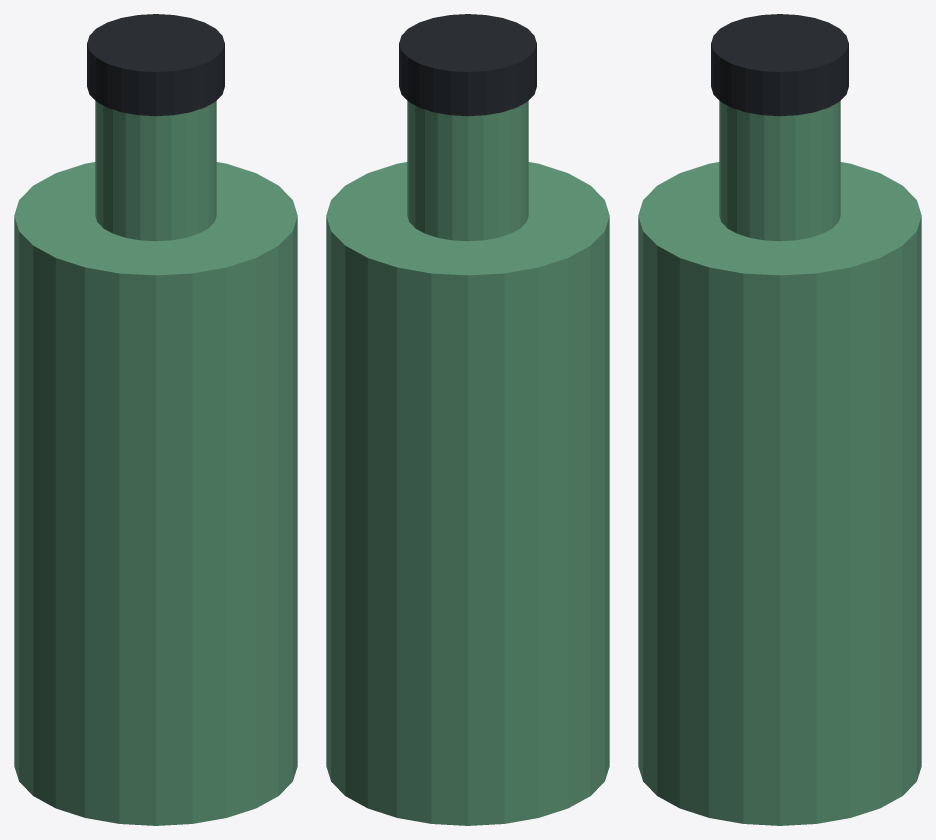
File: bottle.glb
3 renders of one model, left to right at view 1: azimuth 30°, elevation 25°; view 2: azimuth 150°, elevation 25°; view 3: azimuth 270°, elevation 25°, orthographic.
Visible parts, largest first — view 1: bottle; view 2: bottle; view 3: bottle.
Boxes of the visible parts, x1,y1,x2,y2 form: bottle: (14, 14, 297, 825); bottle: (326, 14, 609, 825); bottle: (638, 14, 921, 825).
Size of the model in its own units: 0.07 by 0.197 by 0.07.
